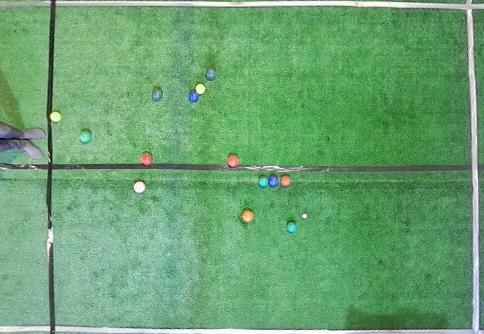blue: (189, 91, 199, 103), (269, 175, 279, 187)
green: (80, 130, 92, 144), (152, 88, 163, 101), (206, 68, 217, 80), (258, 175, 268, 188), (287, 222, 296, 233)
red: (133, 181, 146, 193), (227, 155, 239, 167), (141, 153, 153, 165), (243, 210, 254, 223), (281, 175, 291, 186)
vline: (1, 0, 57, 333), (463, 0, 483, 334)
white: (303, 214, 307, 219)
yellow: (49, 111, 62, 123), (195, 84, 206, 94)
